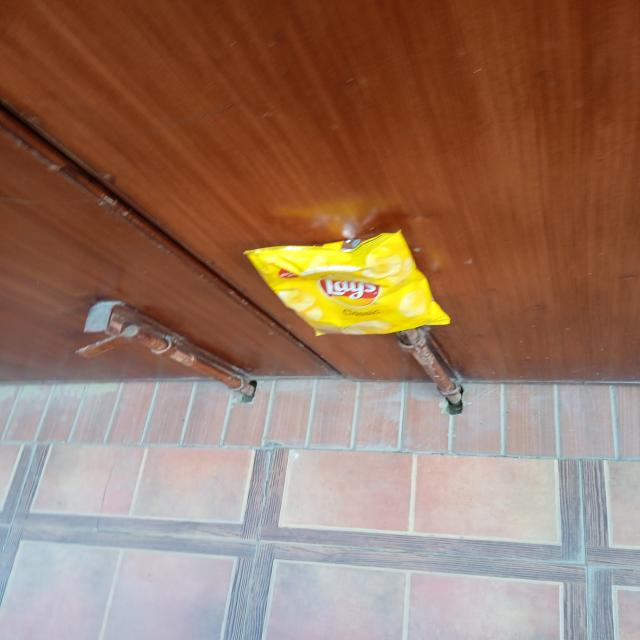Plastic: (248, 237, 451, 337)
